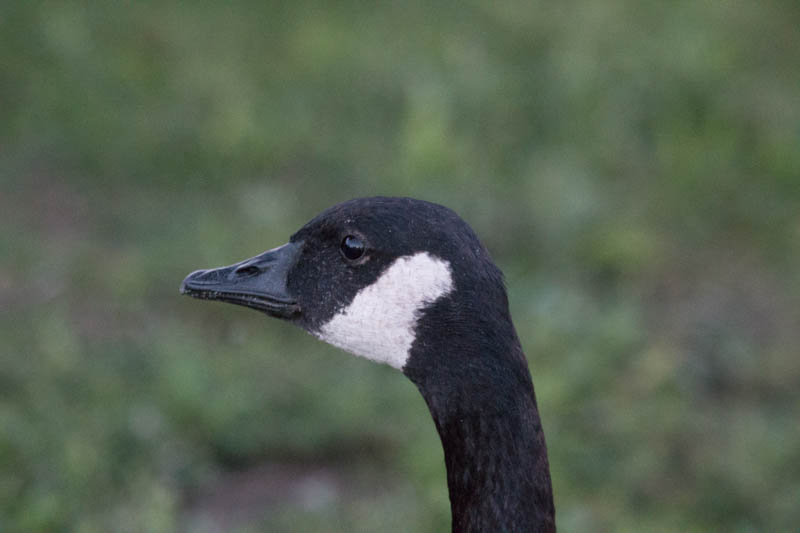goose-head: (178, 195, 515, 383)
